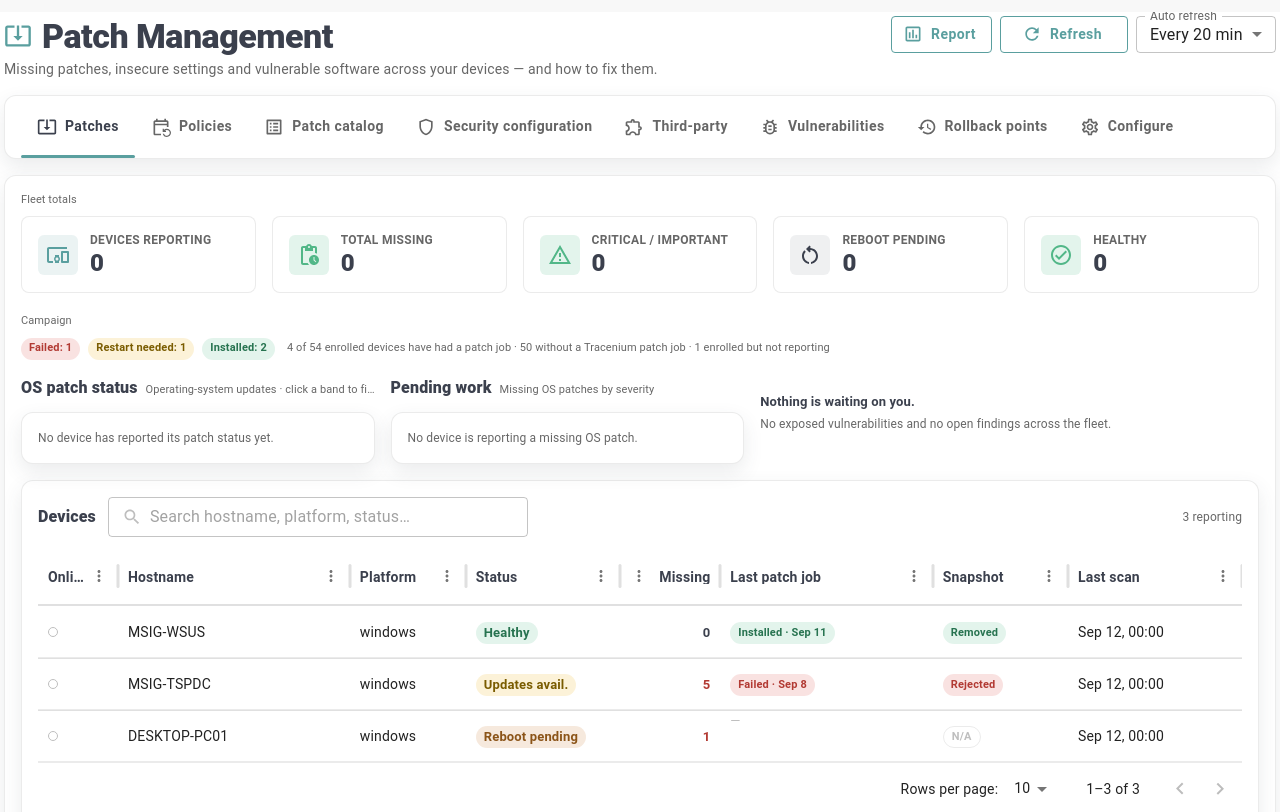
Test: Patch Management — las tarjetas filtran la tabla de equipos › ⚠️ «Critical / Important» filtra EQUIPOS y el rótulo lo aclara
Expected: the text "MSIG-WSUS" is shown, [118,606,350,658]
Click the button "Critical / Important 0".
click(640, 255)  # box [523,216,757,293]
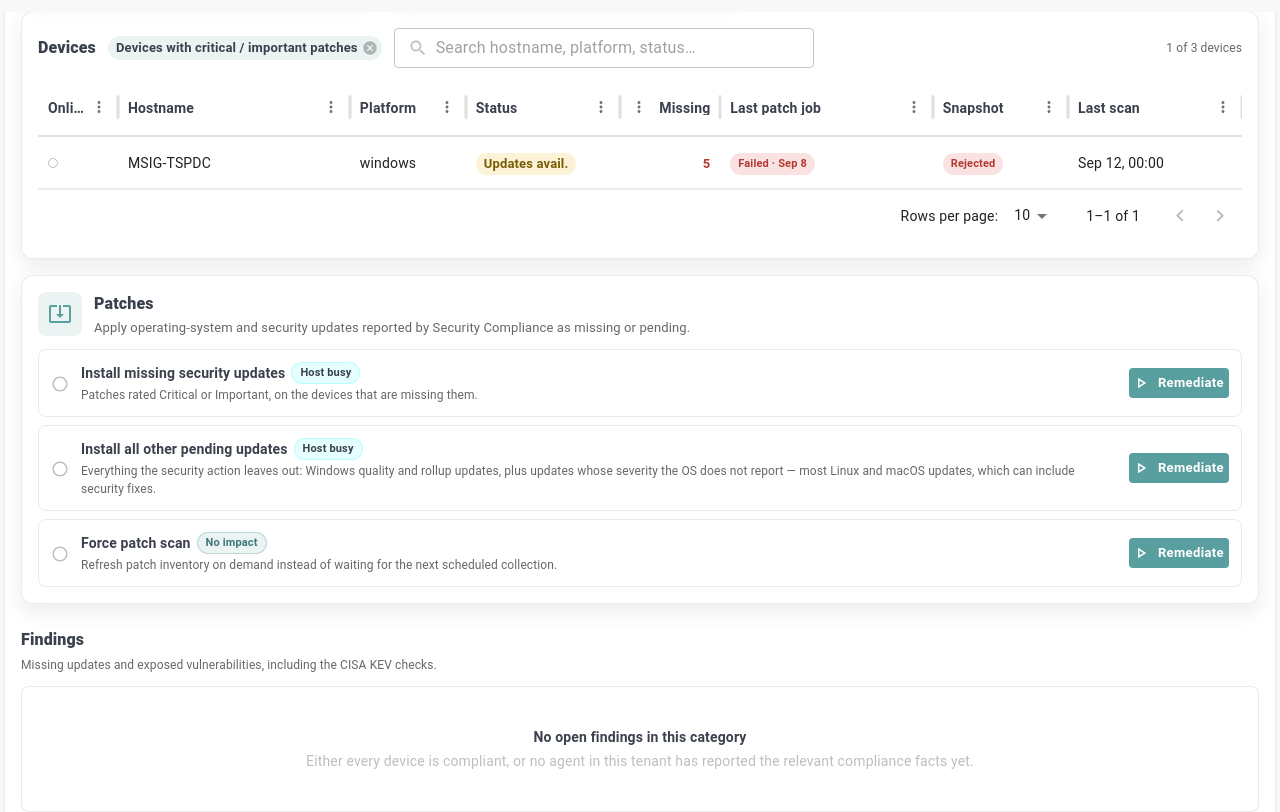
Expected: the text "Devices with critical / important patches" is shown, [108,38,366,57]
